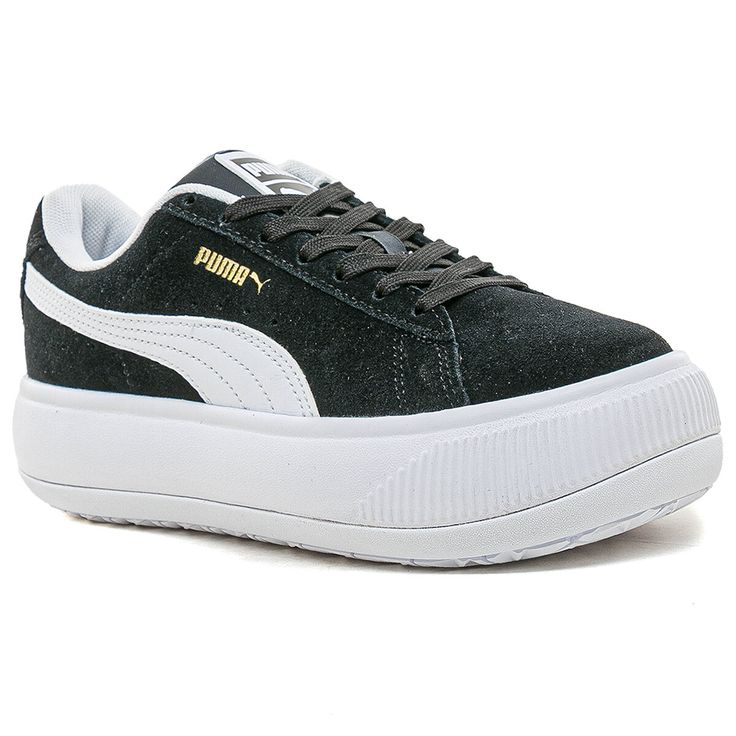gamuza: (20, 147, 673, 417)
